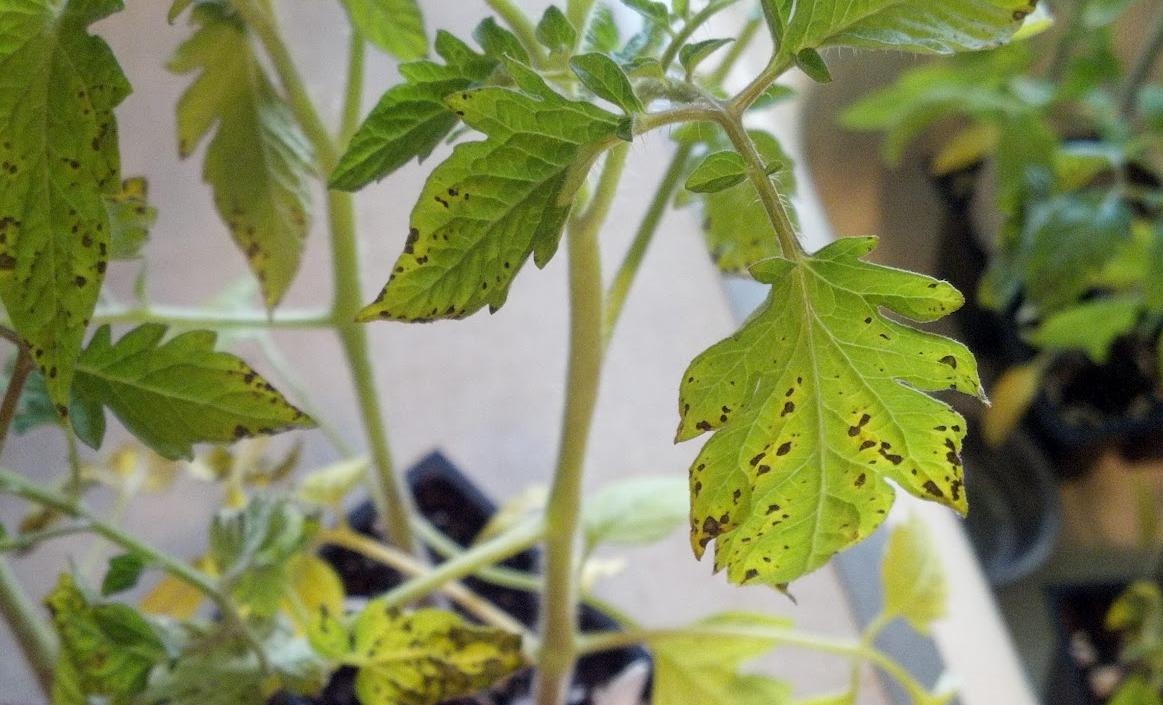Tomato Septoria leaf spot: (663, 261, 985, 639), (330, 70, 649, 331), (0, 0, 146, 443), (25, 320, 332, 490), (332, 586, 542, 705)
